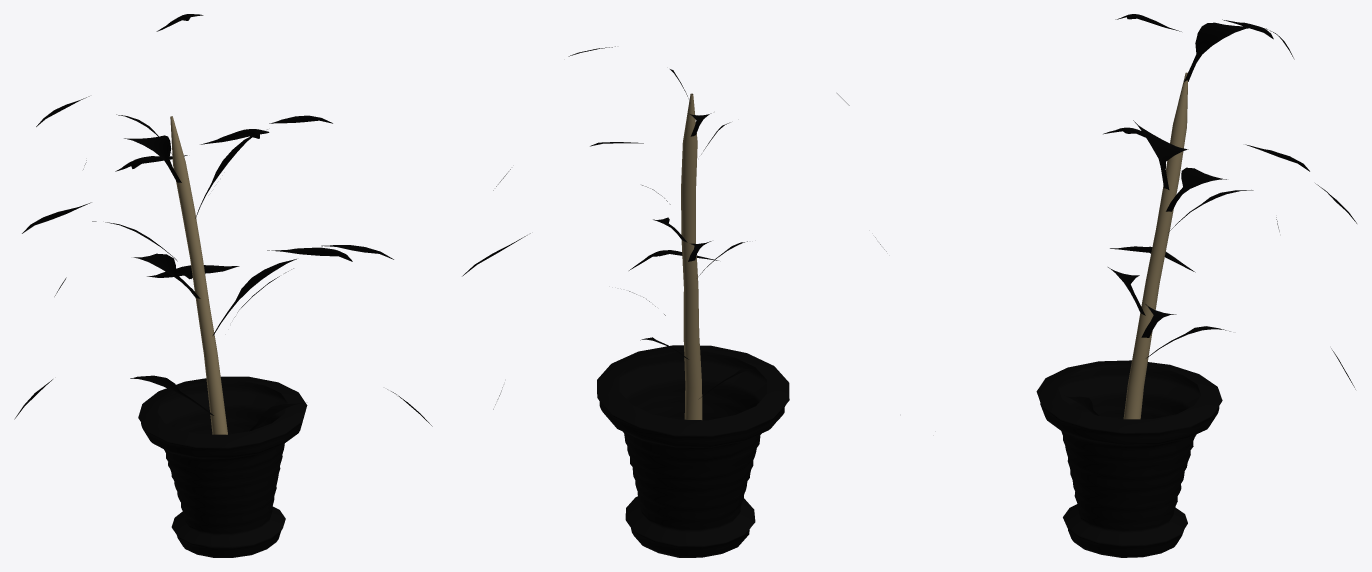
Rendered from plant.fbx.
3 renders of one model, left to right at view 1: azimuth 30°, elevation 25°; view 2: azimuth 150°, elevation 25°; view 3: azimuth 270°, elevation 25°, orthographic. The views are drawn at different scales.
Visible parts, largest first — view 1: rubberPlantPotted4Flower, rubberPlantPotted4Leaf, rubberPlantPotted4Main; view 2: rubberPlantPotted4Flower, rubberPlantPotted4Main, rubberPlantPotted4Leaf; view 3: rubberPlantPotted4Flower, rubberPlantPotted4Leaf, rubberPlantPotted4Main.
Boxes of the visible parts, bbox=[...] form: rubberPlantPotted4Flower: bbox=[138, 376, 307, 557]; rubberPlantPotted4Leaf: bbox=[14, 14, 432, 431]; rubberPlantPotted4Main: bbox=[170, 116, 227, 434]; rubberPlantPotted4Flower: bbox=[597, 345, 789, 557]; rubberPlantPotted4Main: bbox=[681, 93, 702, 419]; rubberPlantPotted4Leaf: bbox=[462, 46, 886, 409]; rubberPlantPotted4Flower: bbox=[1036, 360, 1222, 557]; rubberPlantPotted4Leaf: bbox=[1064, 14, 1356, 415]; rubberPlantPotted4Main: bbox=[1123, 72, 1187, 419].
Bounding box in the file's own units: 137 × 174 × 127.
